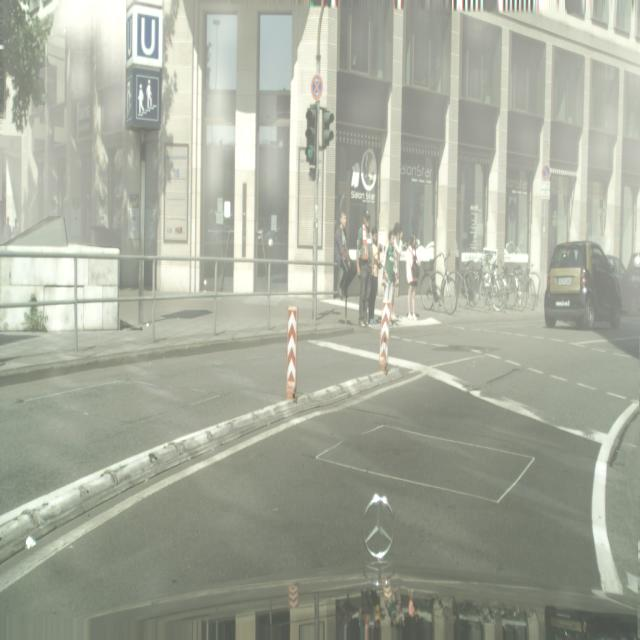car: (420, 250, 457, 314), (480, 250, 507, 312)
person: (356, 209, 374, 328), (381, 231, 400, 322), (334, 211, 352, 301), (369, 228, 383, 323), (405, 234, 420, 321), (2, 216, 12, 243)
truck: (544, 241, 622, 331), (604, 254, 639, 313), (625, 252, 640, 312)
